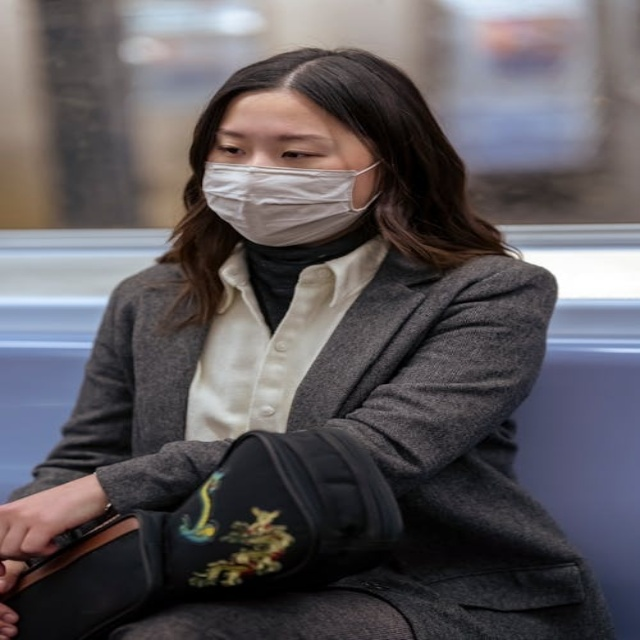Mascara: (201, 158, 385, 245)
Sin_gafas: (212, 125, 353, 166)
Sin_guantes: (5, 463, 120, 561)
